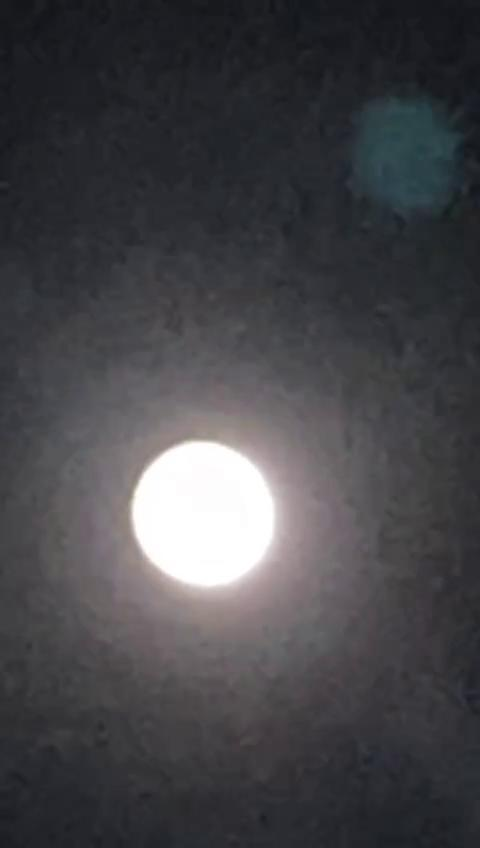moon: (115, 422, 282, 614)
